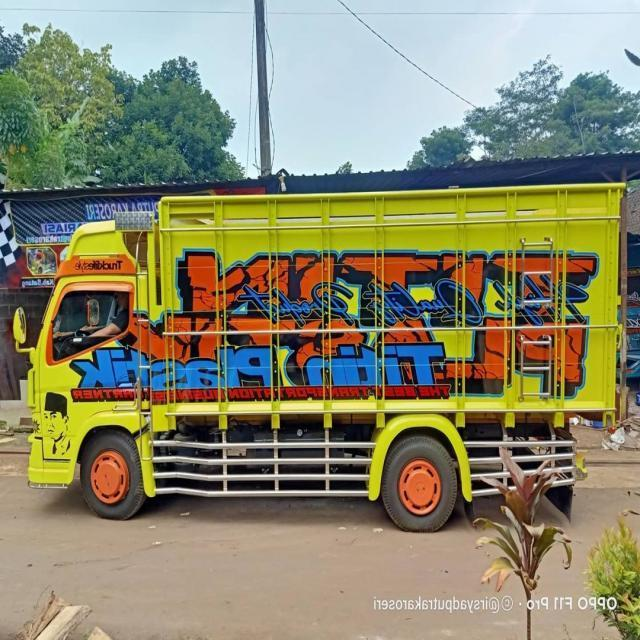truck: (14, 180, 629, 526)
